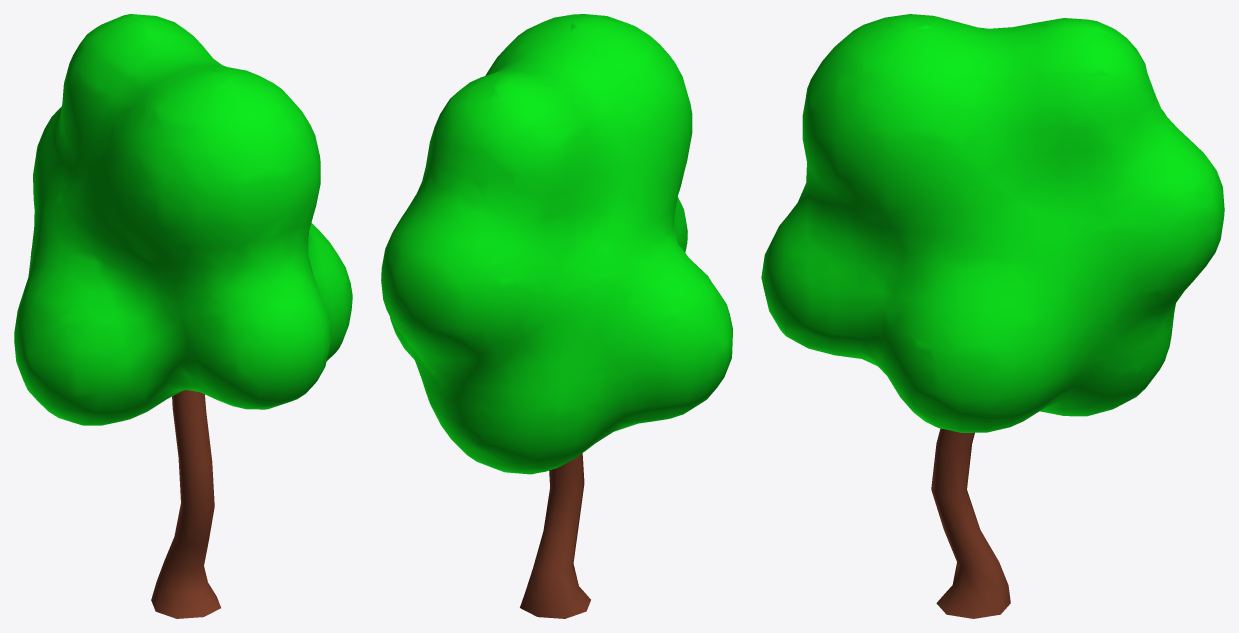
File: Tree_004.fbx
3 renders of one model, left to right at view 1: azimuth 30°, elevation 25°; view 2: azimuth 150°, elevation 25°; view 3: azimuth 270°, elevation 25°, orthographic. The views are drawn at different scales.
Parts seen in each view (by area): view 1: Baum4; view 2: Baum4; view 3: Baum4.
Boxes of the visible parts, box(x1,y1,x2,y2) form: Baum4: box(14, 14, 352, 618); Baum4: box(381, 14, 732, 618); Baum4: box(761, 14, 1224, 618).
Size of the model in its own units: 3.8 by 6.3 by 4.56.
